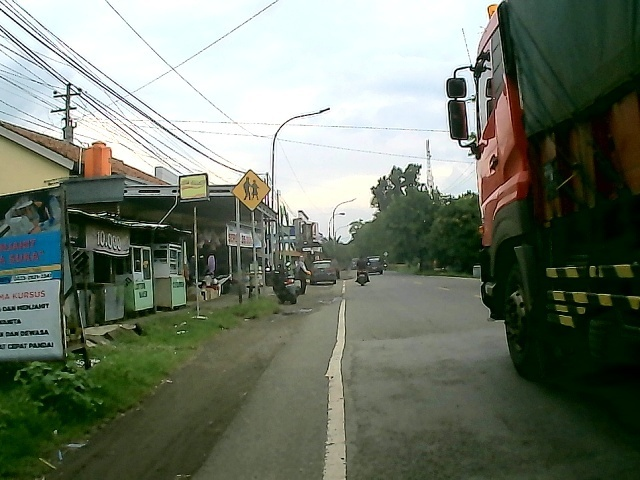Peringatan anak menyeberang: (228, 167, 274, 212)
